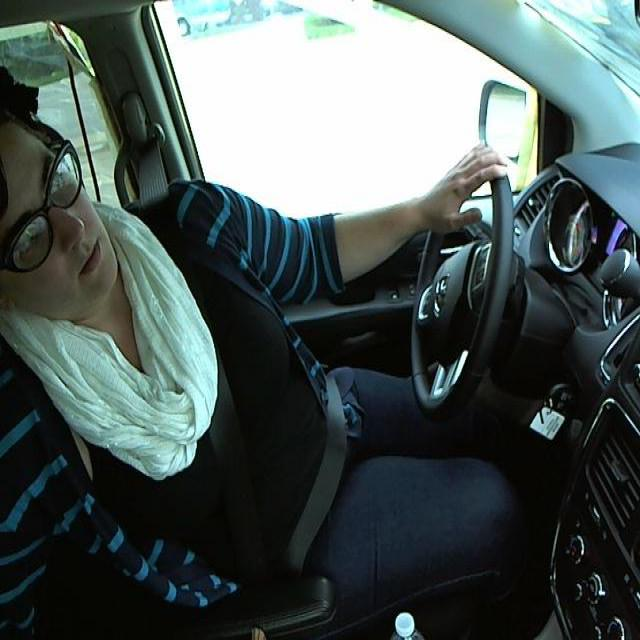seatbelt: (167, 232, 352, 549)
